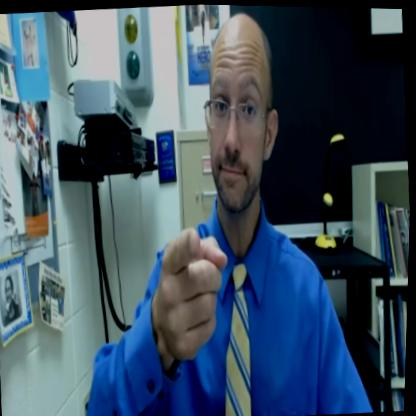HowAreYou: (99, 2, 333, 416)
